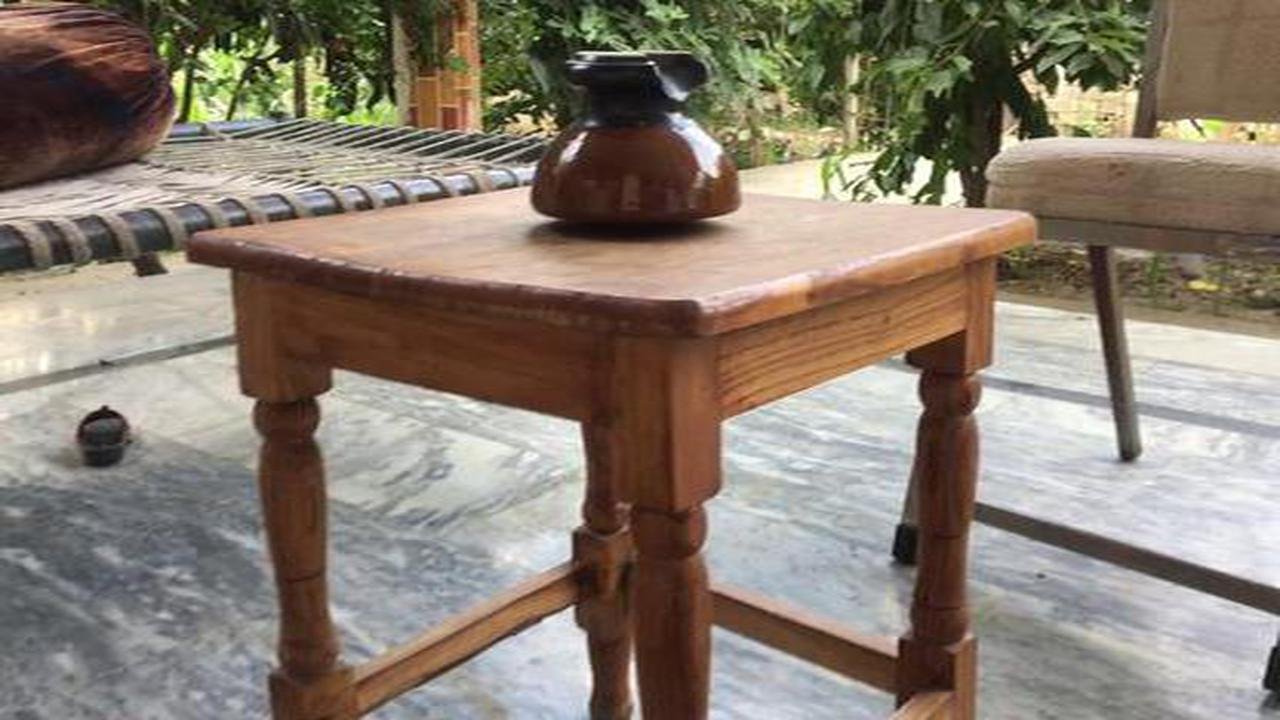insulator_pin: (517, 42, 754, 236)
